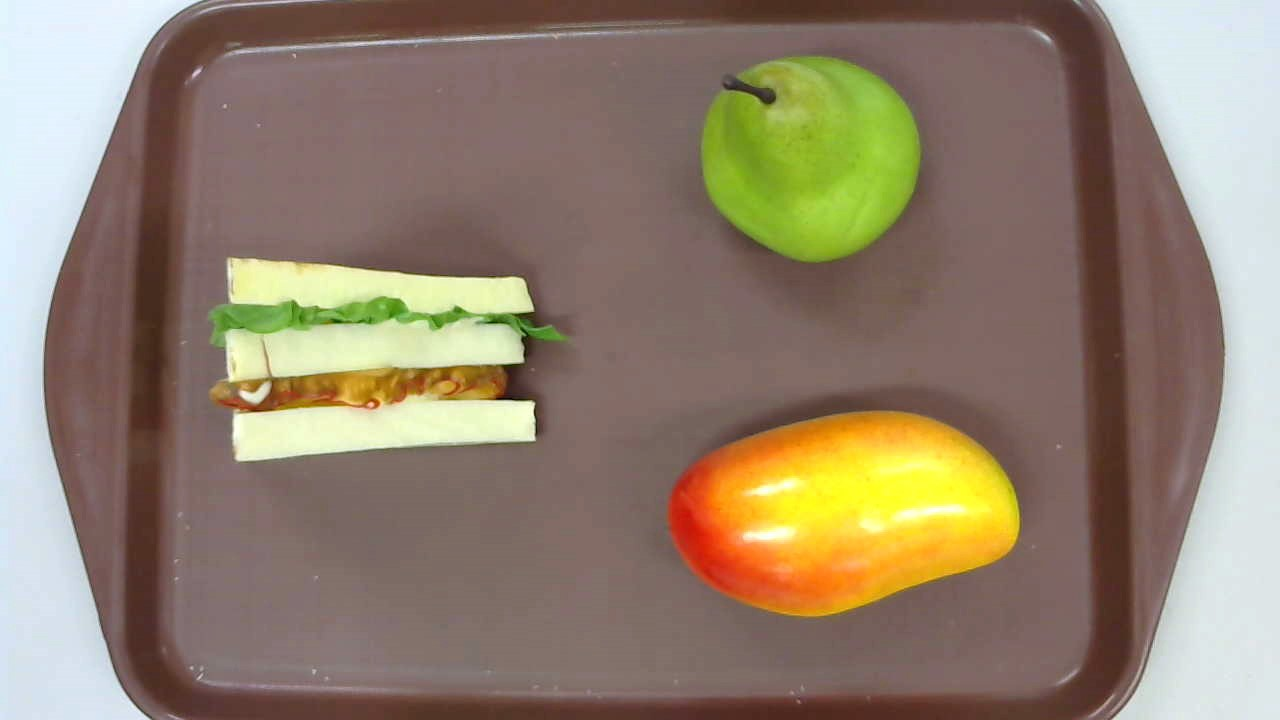green pear: (699, 55, 920, 264)
red mango: (666, 409, 1019, 616)
sandwich: (205, 256, 568, 461)
